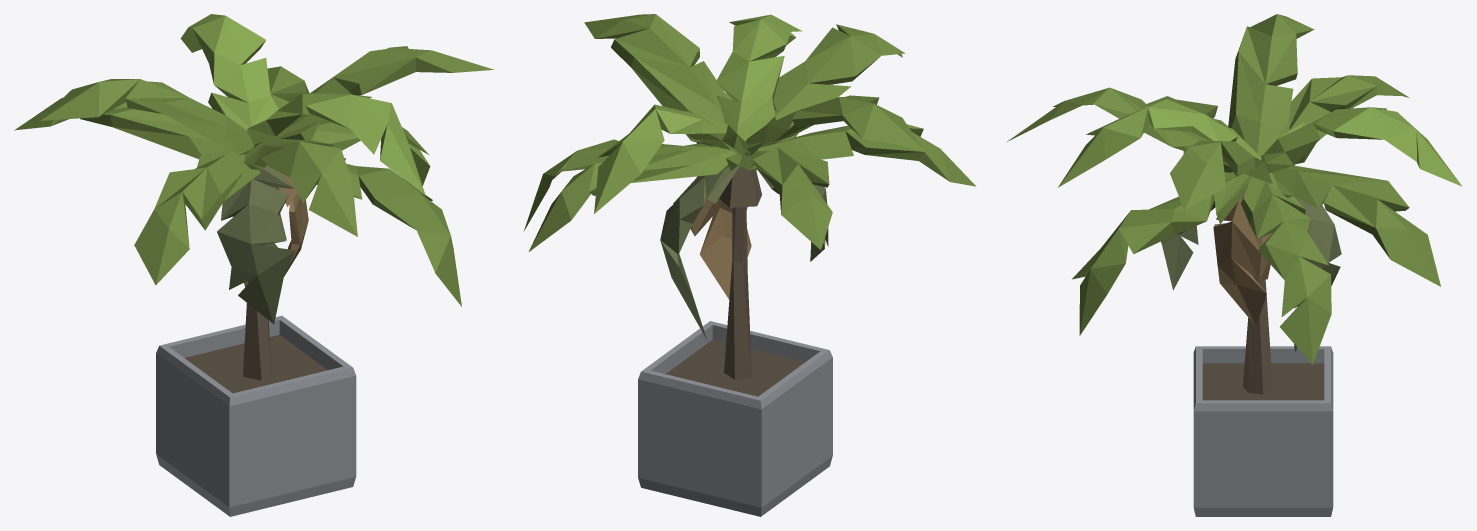
The model's file is Plant.fbx.
The picture shows the model from 3 angles, left to right: view 1: azimuth 30°, elevation 25°; view 2: azimuth 150°, elevation 25°; view 3: azimuth 270°, elevation 25°; orthographic projection. The views are drawn at different scales.
Parts seen in each view (by area): view 1: Plant; view 2: Plant; view 3: Plant.
Boxes of the visible parts, x1=… form: Plant: x1=14, y1=14, x2=494, y2=516; Plant: x1=523, y1=14, x2=975, y2=516; Plant: x1=1007, y1=14, x2=1462, y2=516.
Size of the model in its own units: 138 by 140 by 143.
Materials: 1 (1 with a texture image).
